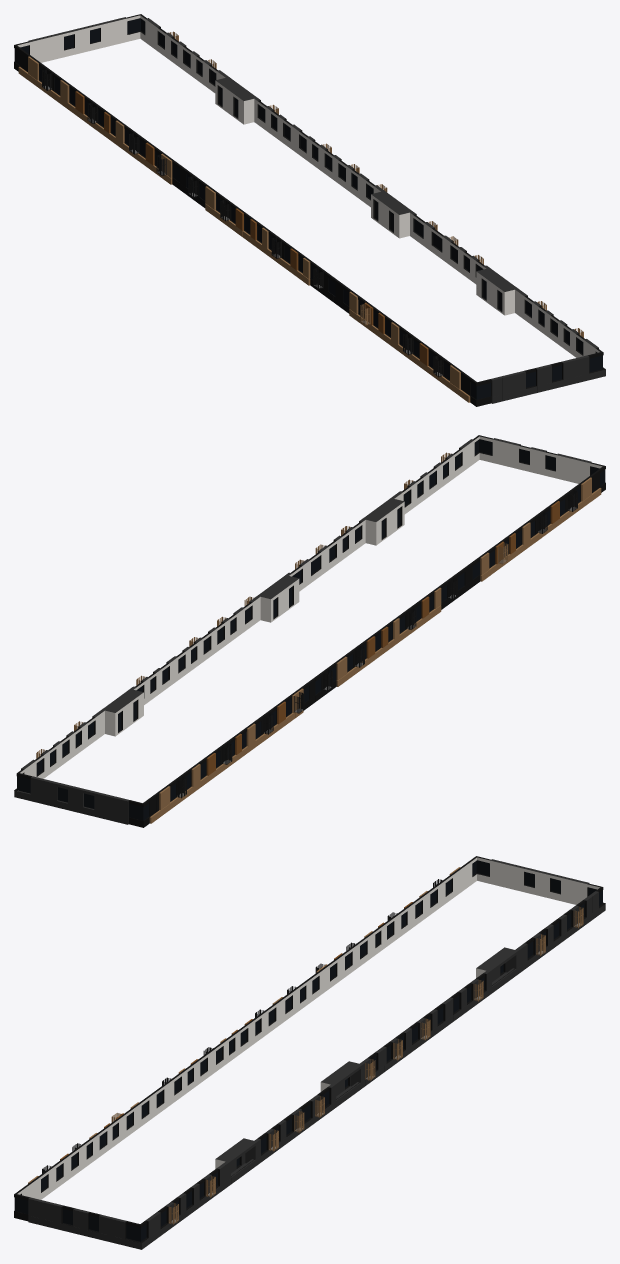
File: floor_14_ext.FBX
3 renders of one model, top to bottom at view 1: azimuth 30°, elevation 25°; view 2: azimuth 150°, elevation 25°; view 3: azimuth 330°, elevation 25°, orthographic.
Parts seen in each view (by area): view 1: floor_14_ext; view 2: floor_14_ext; view 3: floor_14_ext.
Boxes of the visible parts, left/top/right/bottom form: floor_14_ext: left=14, top=14, right=605, bottom=406; floor_14_ext: left=14, top=435, right=605, bottom=827; floor_14_ext: left=14, top=856, right=605, bottom=1249.
Size of the model in its own units: 18.75 by 3 by 108.
